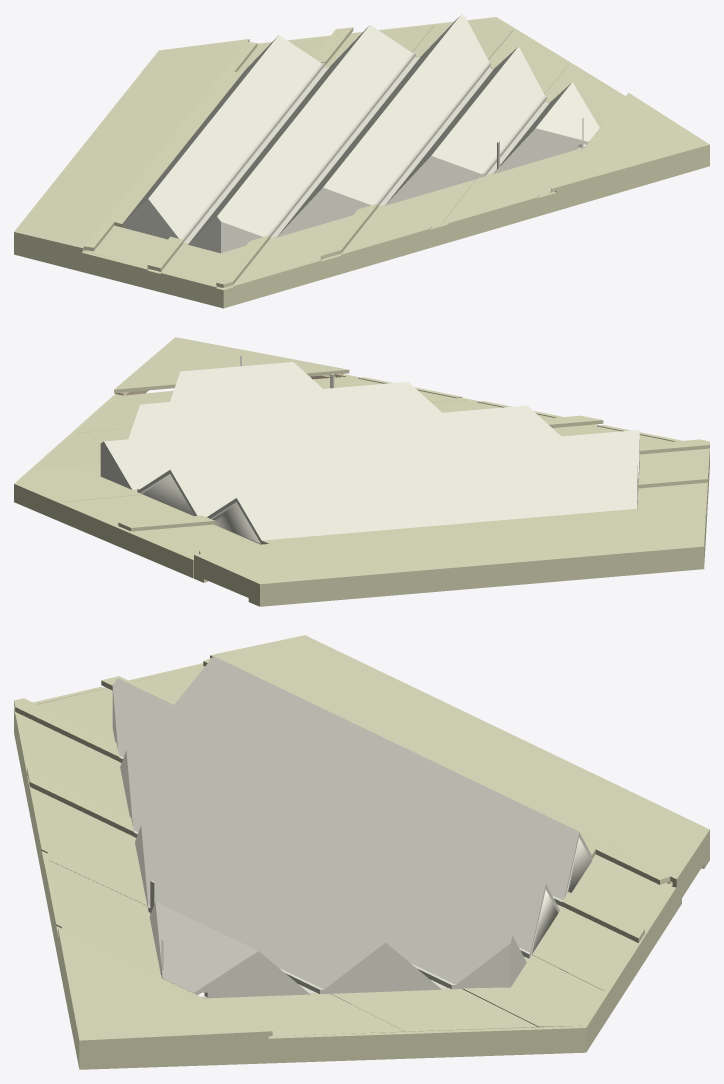
The model's file is DAKRAND.fbx.
The picture shows the model from 3 angles, top to bottom: view 1: azimuth 30°, elevation 25°; view 2: azimuth 150°, elevation 25°; view 3: azimuth 270°, elevation 25°; orthographic projection. The views are drawn at different scales.
Parts seen in each view (by area): view 1: Basic Roof-BMP_osb+isolatie PIR-4325945, Floor-BMP_27.8_dakisolatie_PIR_180 mm-4304620, Basic Wall-BMP_27.8_dakopstanden isolatie_PIR_180 mm-4316561, Floor-BMP_27.8_dakisolatie_PIR_180 mm-4304783, Floor-BMP_27.8_dakisolatie_PIR_180 mm-4304747, Floor-BMP_27.8_dakisolatie_PIR_180 mm-4306320, Floor-BMP_27.8_dakisolatie_PIR_180 mm-4328706-3, Floor-BMP_27.8_dakisolatie_PIR_180 mm-4328706-2, Basic Wall-BMP_27.8_dakopstanden isolatie_PIR_180 mm-4316492, Basic Wall-BMP_27.8_dakopstanden isolatie_PIR_180 mm-4315859, Floor-BMP_27.8_dakisolatie_PIR_180 mm-4328706, Basic Wall-BMP_27.8_dakopstanden isolatie_PIR_120 mm-4327807 (+13 smaller); view 2: Basic Roof-BMP_osb+isolatie PIR-4325945, Floor-BMP_27.8_dakisolatie_PIR_180 mm-4304620, Basic Wall-BMP_27.8_dakopstanden isolatie_PIR_180 mm-4316409, Floor-BMP_27.8_dakisolatie_PIR_180 mm-4304783, Floor-BMP_27.8_dakisolatie_PIR_180 mm-4304747, Basic Wall-BMP_27.8_dakopstanden isolatie_PIR_180 mm-4320282, Floor-BMP_27.8_dakisolatie_PIR_180 mm-4306320, Floor-BMP_27.8_dakisolatie_PIR_180 mm-4329729, Basic Wall-BMP_27.8_dakopstanden isolatie_PIR_120 mm-4327299, Floor-BMP_27.8_dakisolatie_PIR_180 mm-4329729-3, Floor-BMP_27.8_dakisolatie_PIR_180 mm-4329729-2, Floor-BMP_27.8_dakisolatie_PIR_180 mm-4329434-2 (+11 smaller); view 3: Basic Roof-BMP_osb+isolatie PIR-4325945, Floor-BMP_27.8_dakisolatie_PIR_180 mm-4304620, Floor-BMP_27.8_dakisolatie_PIR_180 mm-4304783, Basic Wall-BMP_27.8_dakopstanden isolatie_PIR_180 mm-4316126, Floor-BMP_27.8_dakisolatie_PIR_180 mm-4328706-3, Floor-BMP_27.8_dakisolatie_PIR_180 mm-4328706-2, Basic Wall-BMP_27.8_dakopstanden isolatie_PIR_120 mm-4327295, Floor-BMP_27.8_dakisolatie_PIR_180 mm-4329434-2, Floor-BMP_27.8_dakisolatie_PIR_180 mm-4329729, Floor-BMP_27.8_dakisolatie_PIR_180 mm-4329434, Floor-BMP_27.8_dakisolatie_PIR_180 mm-4328706, Basic Wall-BMP_27.8_dakopstanden isolatie_PIR_180 mm-4315728 (+11 smaller).
Part boxes in pixels (left/top/right/bottom): Basic Roof-BMP_osb+isolatie PIR-4325945: left=122, top=14, right=599, bottom=245; Floor-BMP_27.8_dakisolatie_PIR_180 mm-4304620: left=14, top=39, right=249, bottom=251; Basic Wall-BMP_27.8_dakopstanden isolatie_PIR_180 mm-4316561: left=224, top=191, right=556, bottom=307; Floor-BMP_27.8_dakisolatie_PIR_180 mm-4304783: left=551, top=92, right=709, bottom=192; Floor-BMP_27.8_dakisolatie_PIR_180 mm-4304747: left=84, top=41, right=257, bottom=251; Floor-BMP_27.8_dakisolatie_PIR_180 mm-4306320: left=84, top=225, right=245, bottom=287; Floor-BMP_27.8_dakisolatie_PIR_180 mm-4328706-3: left=442, top=145, right=585, bottom=223; Floor-BMP_27.8_dakisolatie_PIR_180 mm-4328706-2: left=336, top=179, right=475, bottom=255; Basic Wall-BMP_27.8_dakopstanden isolatie_PIR_180 mm-4316492: left=82, top=251, right=226, bottom=308; Basic Wall-BMP_27.8_dakopstanden isolatie_PIR_180 mm-4315859: left=555, top=149, right=706, bottom=210; Floor-BMP_27.8_dakisolatie_PIR_180 mm-4328706: left=225, top=215, right=352, bottom=287; Basic Wall-BMP_27.8_dakopstanden isolatie_PIR_120 mm-4327807: left=218, top=191, right=365, bottom=253; Basic Roof-BMP_osb+isolatie PIR-4325945: left=100, top=362, right=639, bottom=543; Floor-BMP_27.8_dakisolatie_PIR_180 mm-4304620: left=194, top=511, right=705, bottom=587; Basic Wall-BMP_27.8_dakopstanden isolatie_PIR_180 mm-4316409: left=264, top=550, right=704, bottom=606; Floor-BMP_27.8_dakisolatie_PIR_180 mm-4304783: left=114, top=337, right=349, bottom=393; Floor-BMP_27.8_dakisolatie_PIR_180 mm-4304747: left=199, top=507, right=701, bottom=554; Basic Wall-BMP_27.8_dakopstanden isolatie_PIR_180 mm-4320282: left=17, top=483, right=193, bottom=578; Floor-BMP_27.8_dakisolatie_PIR_180 mm-4306320: left=637, top=449, right=705, bottom=512; Floor-BMP_27.8_dakisolatie_PIR_180 mm-4329729: left=19, top=463, right=141, bottom=502; Basic Wall-BMP_27.8_dakopstanden isolatie_PIR_120 mm-4327299: left=102, top=445, right=261, bottom=544; Floor-BMP_27.8_dakisolatie_PIR_180 mm-4329729-3: left=63, top=494, right=193, bottom=525; Floor-BMP_27.8_dakisolatie_PIR_180 mm-4329729-2: left=132, top=524, right=259, bottom=557; Floor-BMP_27.8_dakisolatie_PIR_180 mm-4329434-2: left=33, top=428, right=131, bottom=470; Basic Roof-BMP_osb+isolatie PIR-4325945: left=112, top=656, right=591, bottom=995; Floor-BMP_27.8_dakisolatie_PIR_180 mm-4304620: left=210, top=635, right=709, bottom=883; Floor-BMP_27.8_dakisolatie_PIR_180 mm-4304783: left=58, top=928, right=272, bottom=1045; Basic Wall-BMP_27.8_dakopstanden isolatie_PIR_180 mm-4316126: left=268, top=1025, right=587, bottom=1063; Floor-BMP_27.8_dakisolatie_PIR_180 mm-4328706-3: left=49, top=860, right=161, bottom=977; Floor-BMP_27.8_dakisolatie_PIR_180 mm-4328706-2: left=35, top=789, right=147, bottom=905; Basic Wall-BMP_27.8_dakopstanden isolatie_PIR_120 mm-4327295: left=200, top=945, right=511, bottom=998; Floor-BMP_27.8_dakisolatie_PIR_180 mm-4329434-2: left=331, top=988, right=537, bottom=1031; Floor-BMP_27.8_dakisolatie_PIR_180 mm-4329729: left=462, top=955, right=603, bottom=1027; Floor-BMP_27.8_dakisolatie_PIR_180 mm-4329434: left=204, top=992, right=405, bottom=1036; Floor-BMP_27.8_dakisolatie_PIR_180 mm-4328706: left=20, top=715, right=129, bottom=816; Basic Wall-BMP_27.8_dakopstanden isolatie_PIR_180 mm-4315728: left=79, top=1036, right=268, bottom=1069.
Size of the model in its own units: 10631 by 931 by 7739.
